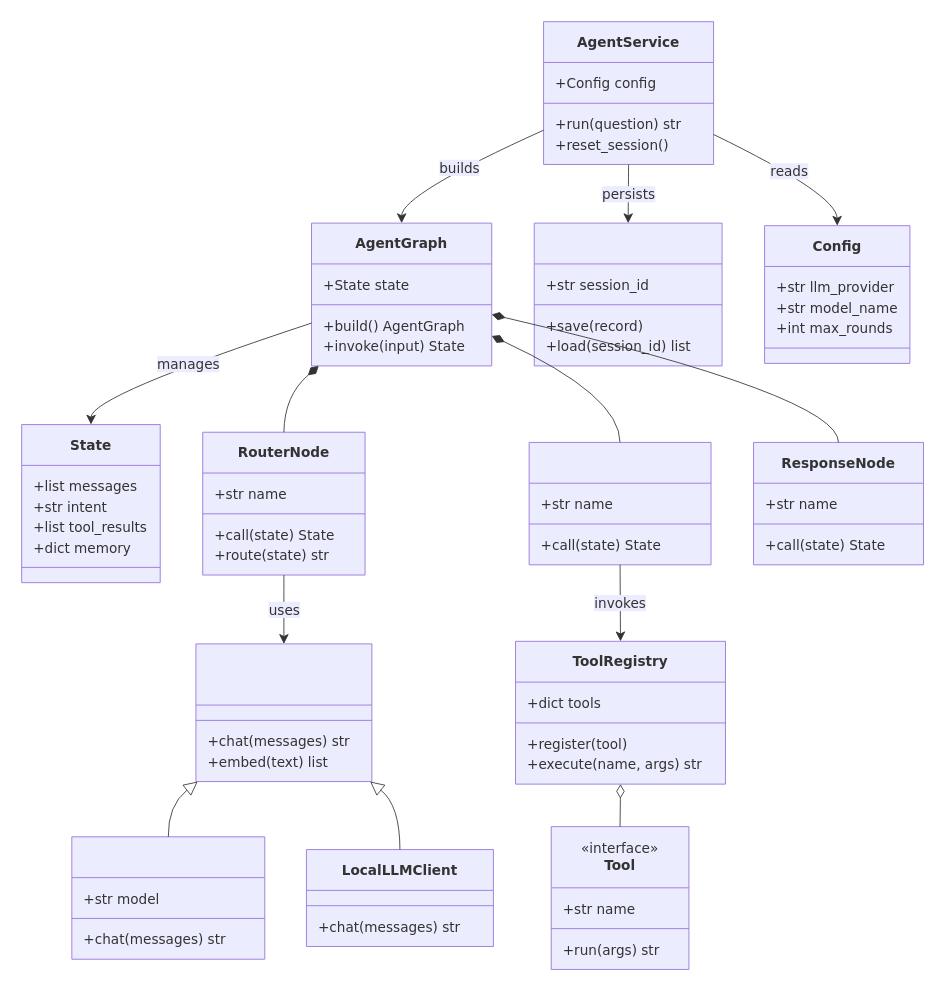
Some shapes in this 938 by 984 pixel diagram are drawn without their labels. The shapes that lost their labels are listed below. From the top down, each one's box as (x1, y1, x2, y2) in pixels, then its label:
(533, 222, 722, 366): MemoryStore
(528, 442, 711, 565): ToolExecutorNode
(195, 643, 372, 782): «interface» LLMClient
(71, 836, 265, 959): OpenAILLMClient
